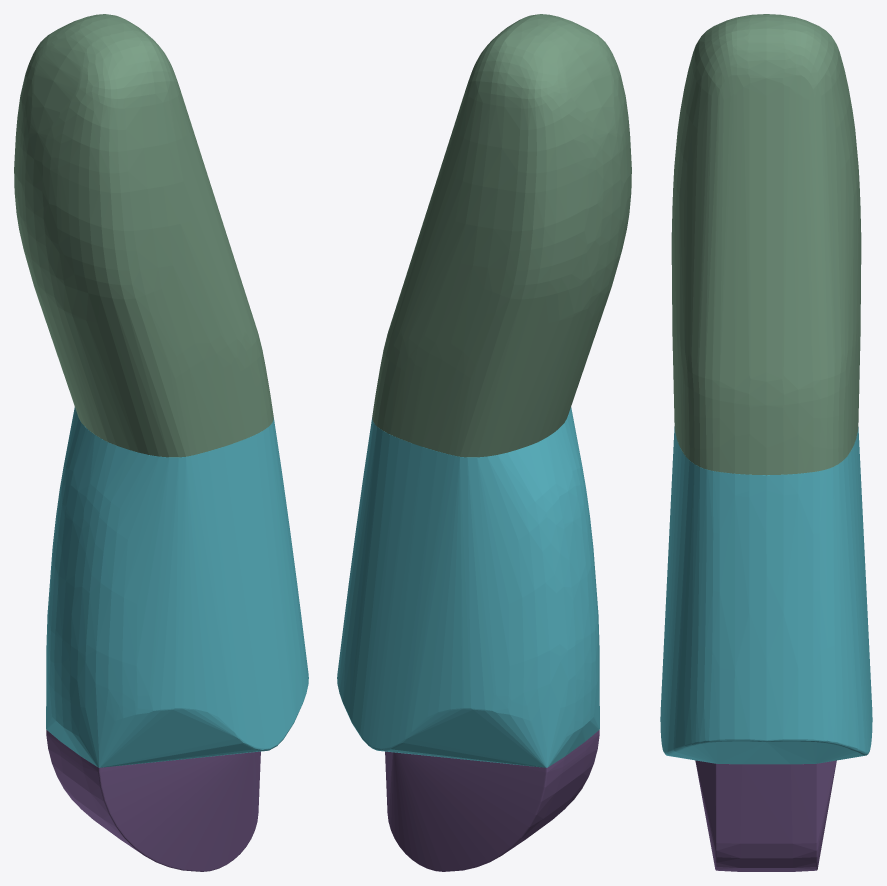
File: right_index_intermediate.obj
3 views of the same model, side by side, from view 1: azimuth 30°, elevation 25°; view 2: azimuth 150°, elevation 25°; view 3: azimuth 270°, elevation 25° (orthographic). The views are drawn at different scales.
Visible parts, largest first — view 1: geometry_0, geometry_2, geometry_1; view 2: geometry_0, geometry_2, geometry_1; view 3: geometry_0, geometry_2, geometry_1.
Boxes of the visible parts, bbox=[...] form: geometry_0: bbox=[14, 14, 273, 457]; geometry_2: bbox=[46, 407, 308, 767]; geometry_1: bbox=[46, 730, 260, 871]; geometry_0: bbox=[372, 14, 631, 457]; geometry_2: bbox=[337, 407, 599, 767]; geometry_1: bbox=[385, 730, 599, 871]; geometry_0: bbox=[671, 14, 861, 475]; geometry_2: bbox=[660, 426, 872, 764]; geometry_1: bbox=[695, 760, 836, 871].
Bounding box in the file's own units: 0.0168 × 0.0531 × 0.0126.
